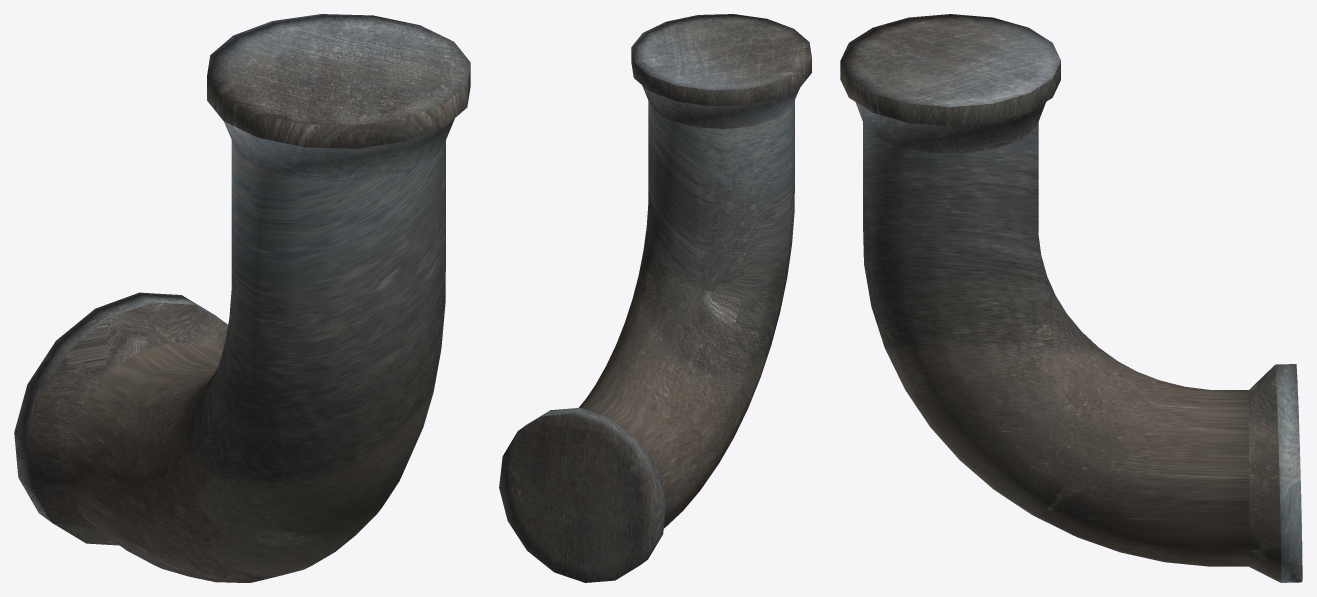
The model's file is Tuberia_Curva 1.fbx.
3 renders of one model, left to right at view 1: azimuth 30°, elevation 25°; view 2: azimuth 150°, elevation 25°; view 3: azimuth 270°, elevation 25°, orthographic. The views are drawn at different scales.
Parts seen in each view (by area): view 1: Cylinder.001; view 2: Cylinder.001; view 3: Cylinder.001.
Part boxes in pixels (x1=…): Cylinder.001: x1=14, y1=14, x2=470, y2=582; Cylinder.001: x1=499, y1=14, x2=811, y2=582; Cylinder.001: x1=840, y1=14, x2=1302, y2=582.
Size of the model in its own units: 245 by 626 by 511.
